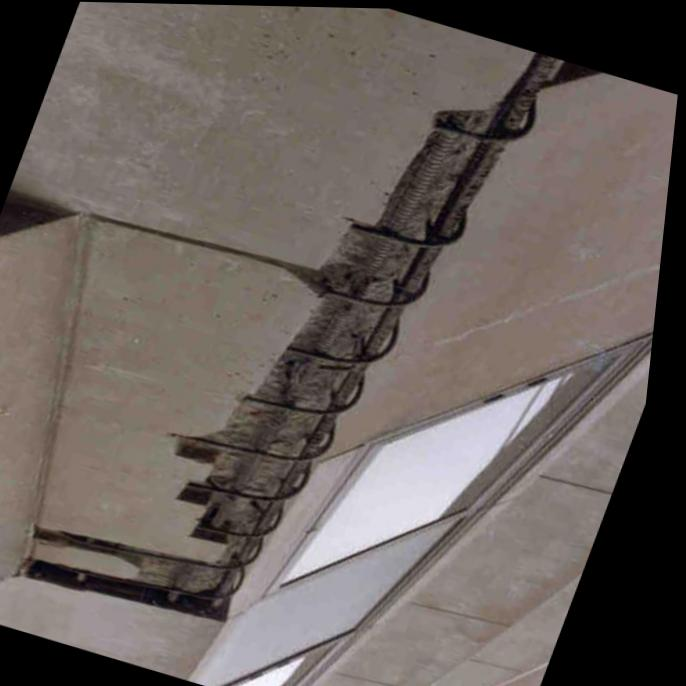damage: (36, 50, 569, 622)
